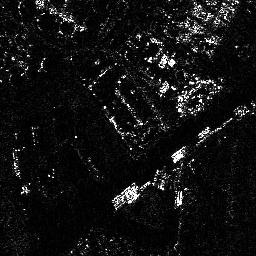ship: (110, 181, 140, 207)
